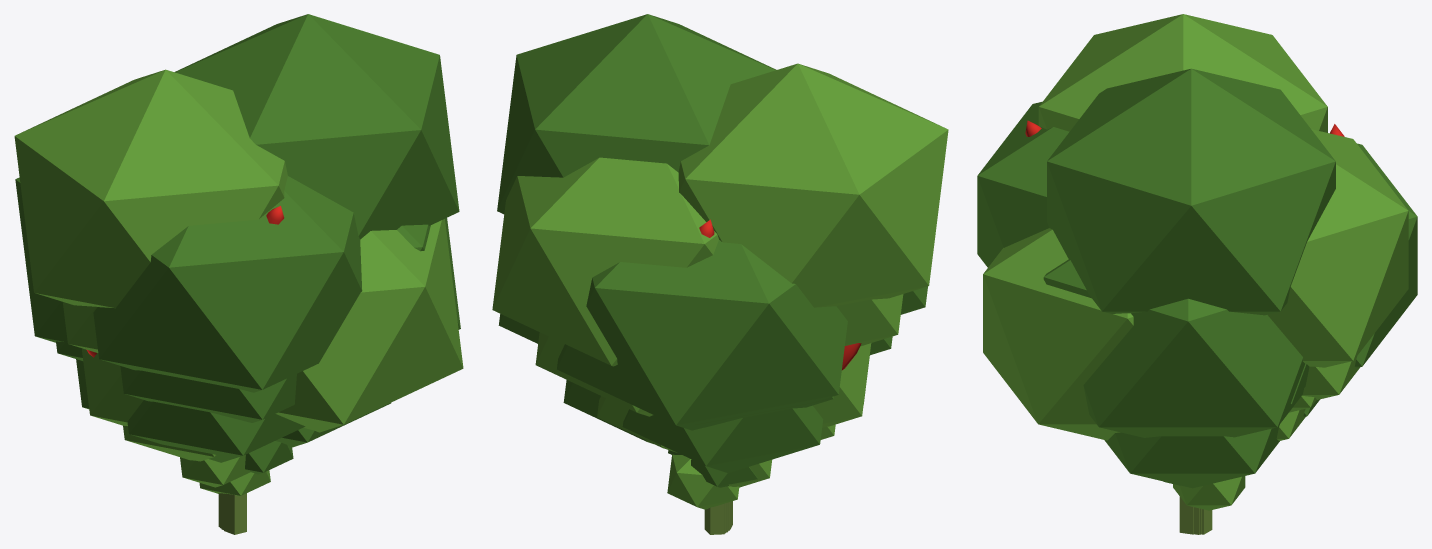
Rendered from Crop_Veg_ChiliPepper.fbx.
3 views of the same model, side by side, from view 1: azimuth 30°, elevation 25°; view 2: azimuth 150°, elevation 25°; view 3: azimuth 270°, elevation 25° (orthographic).
Visible parts, largest first — view 1: Crop_Veg_ChiliPepper__S4, Crop_Veg_ChiliPepper__S5, Crop_Veg_ChiliPepper__S3, Crop_Veg_ChiliPepper__S1, Crop_Veg_ChiliPepper__S2; view 2: Crop_Veg_ChiliPepper__S4, Crop_Veg_ChiliPepper__S5, Crop_Veg_ChiliPepper__S3, Crop_Veg_ChiliPepper__S1, Crop_Veg_ChiliPepper__S2; view 3: Crop_Veg_ChiliPepper__S4, Crop_Veg_ChiliPepper__S5, Crop_Veg_ChiliPepper__S1, Crop_Veg_ChiliPepper__S3, Crop_Veg_ChiliPepper__S2.
Part boxes in pixels (bbox=[...]): Crop_Veg_ChiliPepper__S4: bbox=[14, 14, 463, 529]; Crop_Veg_ChiliPepper__S5: bbox=[76, 348, 390, 527]; Crop_Veg_ChiliPepper__S3: bbox=[56, 302, 296, 422]; Crop_Veg_ChiliPepper__S1: bbox=[180, 441, 293, 534]; Crop_Veg_ChiliPepper__S2: bbox=[123, 425, 221, 528]; Crop_Veg_ChiliPepper__S4: bbox=[492, 14, 948, 532]; Crop_Veg_ChiliPepper__S5: bbox=[563, 343, 871, 534]; Crop_Veg_ChiliPepper__S3: bbox=[520, 294, 903, 427]; Crop_Veg_ChiliPepper__S1: bbox=[667, 450, 771, 530]; Crop_Veg_ChiliPepper__S2: bbox=[597, 396, 835, 533]; Crop_Veg_ChiliPepper__S4: bbox=[977, 14, 1417, 440]; Crop_Veg_ChiliPepper__S5: bbox=[1104, 396, 1319, 534]; Crop_Veg_ChiliPepper__S1: bbox=[1163, 476, 1245, 534]; Crop_Veg_ChiliPepper__S3: bbox=[1194, 356, 1360, 534]; Crop_Veg_ChiliPepper__S2: bbox=[1199, 409, 1305, 534].
Size of the model in its own units: 0.1949 by 0.2259 by 0.1814.
